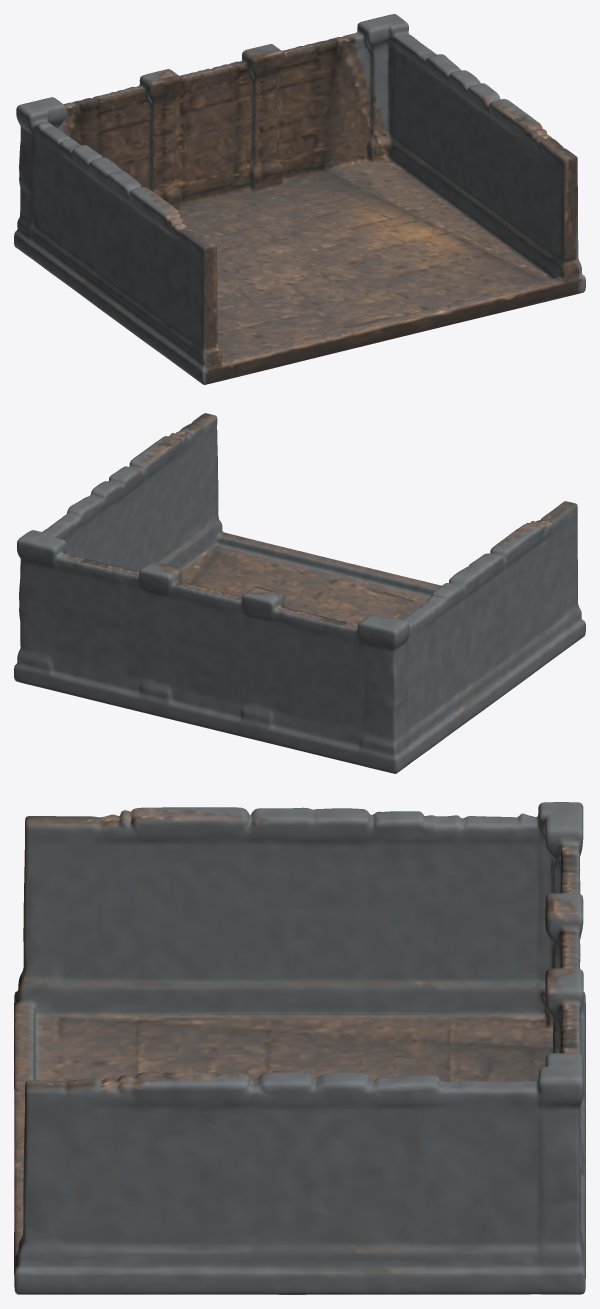
The model's file is room.glb.
3 views of the same model, one above another, from view 1: azimuth 30°, elevation 25°; view 2: azimuth 150°, elevation 25°; view 3: azimuth 270°, elevation 25° (orthographic). The views are drawn at different scales.
Visible parts, largest first — view 1: BANK-ENTRANCE; view 2: BANK-ENTRANCE; view 3: BANK-ENTRANCE.
Part boxes in pixels (bbox=[...]): BANK-ENTRANCE: bbox=[14, 14, 585, 384]; BANK-ENTRANCE: bbox=[14, 413, 585, 773]; BANK-ENTRANCE: bbox=[14, 802, 585, 1294].
Size of the model in its own units: 14 by 5 by 12.
1 material, 1 textured.
